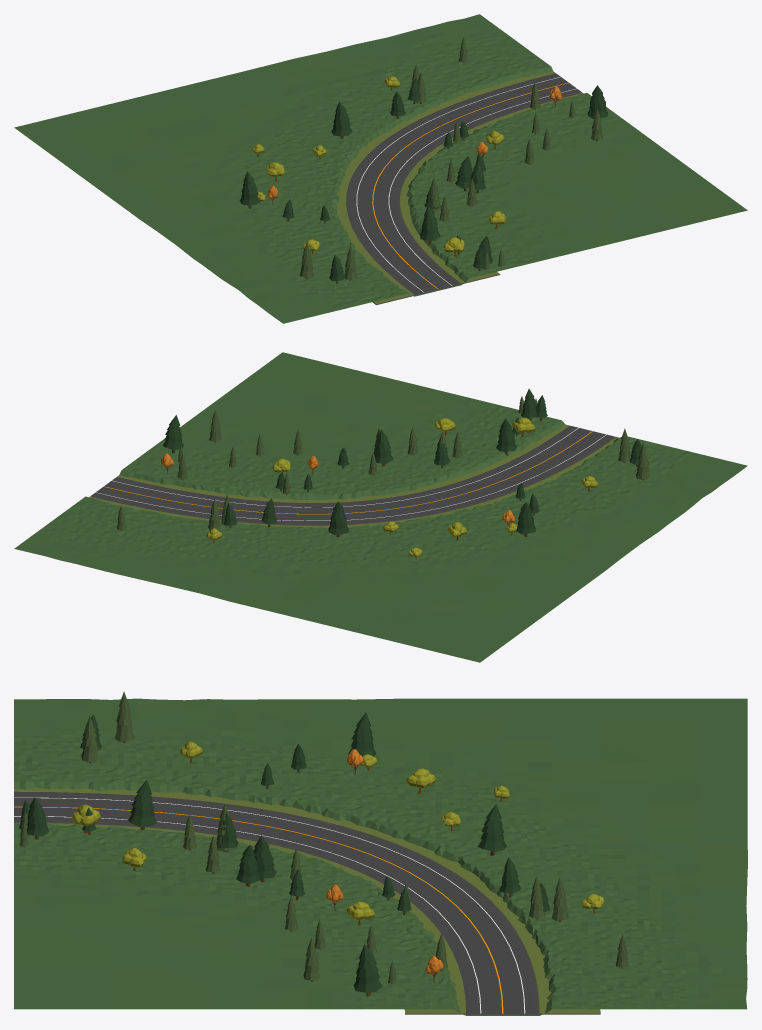
The model's file is ForestRoadLeft3.fbx.
3 renders of one model, top to bottom at view 1: azimuth 30°, elevation 25°; view 2: azimuth 150°, elevation 25°; view 3: azimuth 270°, elevation 25°, orthographic. The views are drawn at different scales.
Visible parts, largest first — view 1: FRL3Plane, FRL3Road; view 2: FRL3Plane, FRL3Road; view 3: FRL3Plane, FRL3Road, FRL3Plane|pineTree04|Dupli|26, FRL3Plane|pineTree04|Dupli|11, FRL3Plane|pineTree04|Dupli|44, FRL3Plane|pineTree04|Dupli|27, FRL3Plane|pineTree04|Dupli|29, FRL3Plane|pineTree05|Dupli|21, FRL3Plane|pineTree04|Dupli|28, FRL3Plane|pineTree04|Dupli|31, FRL3Plane|pineTree05|Dupli|24.
Part boxes in pixels (<box>): FRL3Plane: <box>14,14,747,323</box>; FRL3Road: <box>336,71,583,304</box>; FRL3Plane: <box>14,352,747,662</box>; FRL3Road: <box>89,424,618,528</box>; FRL3Plane: <box>14,698,747,1015</box>; FRL3Road: <box>14,788,600,1014</box>; FRL3Plane|pineTree04|Dupli|26: <box>353,944,382,996</box>; FRL3Plane|pineTree04|Dupli|11: <box>478,804,506,855</box>; FRL3Plane|pineTree04|Dupli|44: <box>128,780,156,829</box>; FRL3Plane|pineTree04|Dupli|27: <box>348,712,376,756</box>; FRL3Plane|pineTree04|Dupli|29: <box>253,835,276,882</box>; FRL3Plane|pineTree05|Dupli|21: <box>115,692,133,742</box>; FRL3Plane|pineTree04|Dupli|28: <box>236,844,260,886</box>; FRL3Plane|pineTree04|Dupli|31: <box>26,797,48,839</box>; FRL3Plane|pineTree05|Dupli|24: <box>81,716,99,762</box>.
Size of what is drawn, in the model's own units: 30058 by 2596 by 30029.
